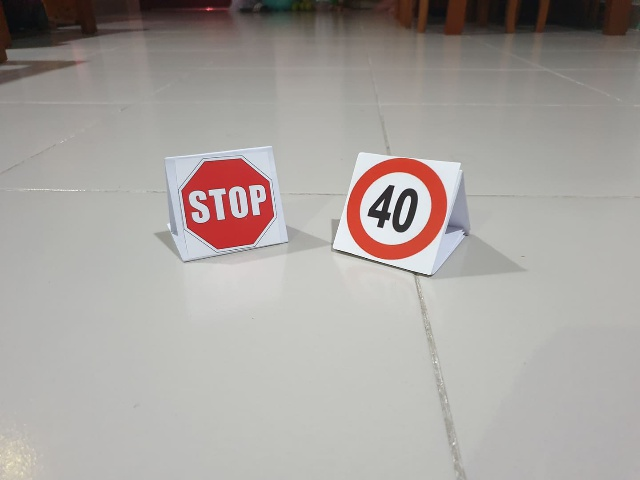Limit 40: (350, 157, 448, 262)
Stop: (171, 154, 280, 245)
